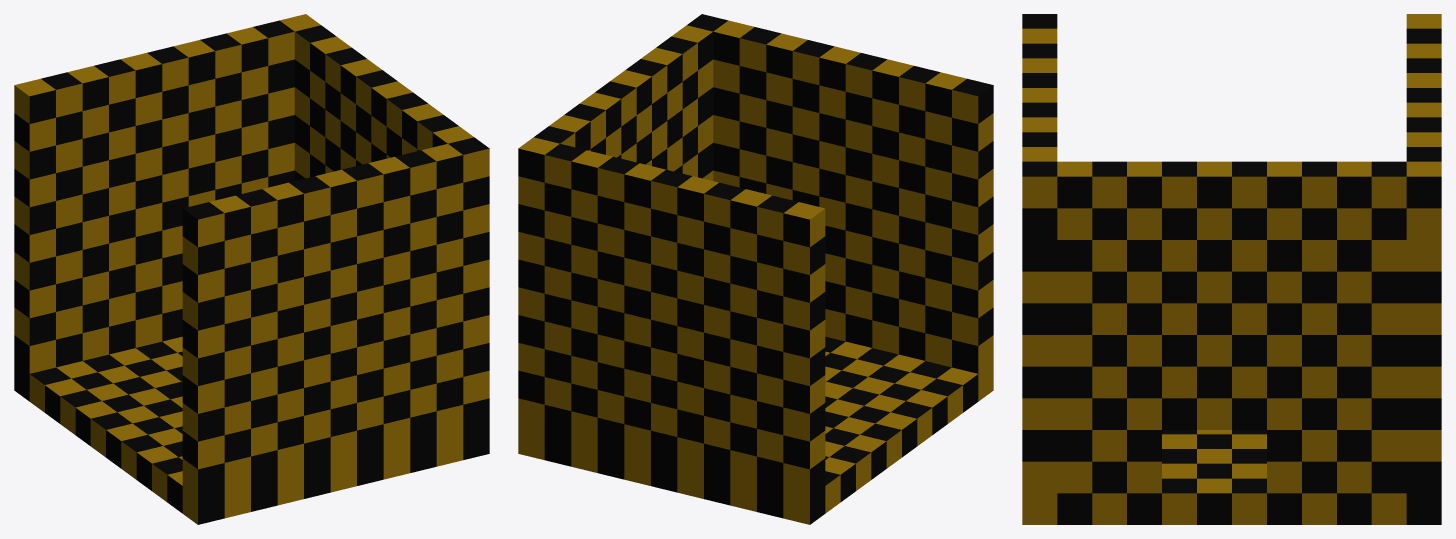
The picture shows the model from 3 angles, left to right: view 1: azimuth 30°, elevation 25°; view 2: azimuth 150°, elevation 25°; view 3: azimuth 270°, elevation 25°; orthographic projection. The views are drawn at different scales.
Parts seen in each view (by area): view 1: 房间.007; view 2: 房间.007; view 3: 房间.007.
Part boxes in pixels (left/top/right/bottom): 房间.007: left=14, top=14, right=489, bottom=524; 房间.007: left=518, top=14, right=993, bottom=524; 房间.007: left=1022, top=14, right=1441, bottom=524.
Bounding box in the file's own units: 2200 × 2200 × 2400.
